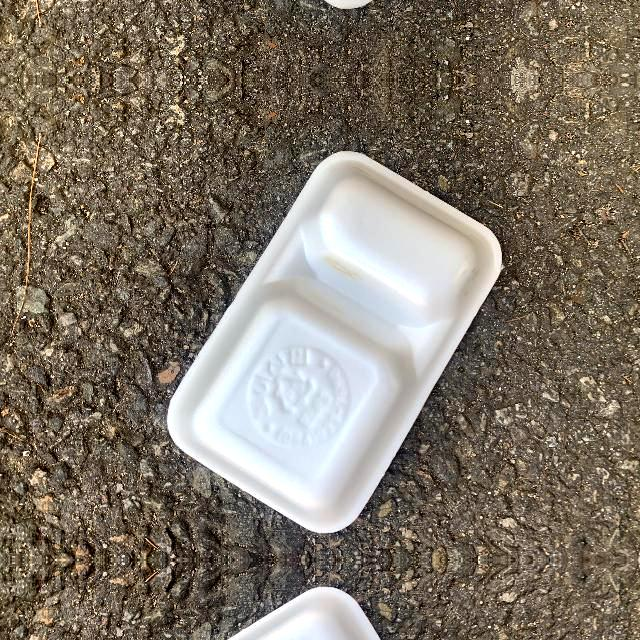Styrofoam: (167, 151, 502, 533), (168, 151, 500, 534)
